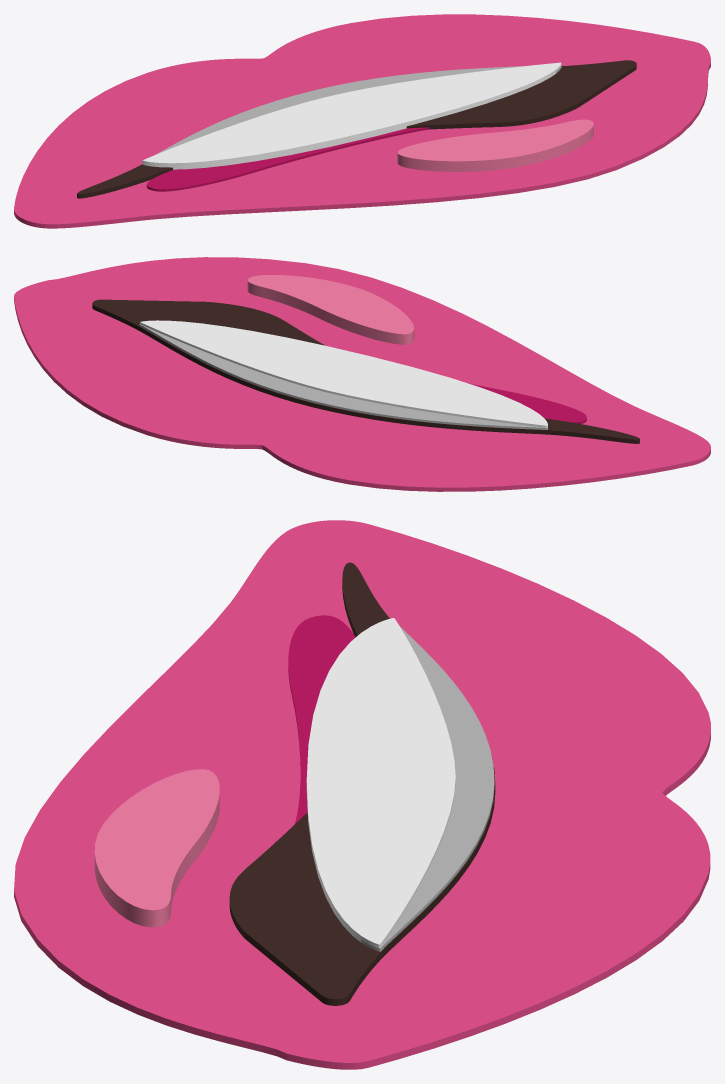
The model's file is emoji_u1fae6.glb.
3 views of the same model, one above another, from view 1: azimuth 30°, elevation 25°; view 2: azimuth 150°, elevation 25°; view 3: azimuth 270°, elevation 25° (orthographic). The views are drawn at different scales.
Parts seen in each view (by area): view 1: emoji_u1fae6; view 2: emoji_u1fae6; view 3: emoji_u1fae6.
Boxes of the visible parts, left/top/right/bottom form: emoji_u1fae6: left=14, top=14, right=710, bottom=228; emoji_u1fae6: left=14, top=257, right=710, bottom=491; emoji_u1fae6: left=14, top=520, right=710, bottom=1069.
Bounding box in the file's own units: 0.0339 × 0.0012 × 0.0184.
